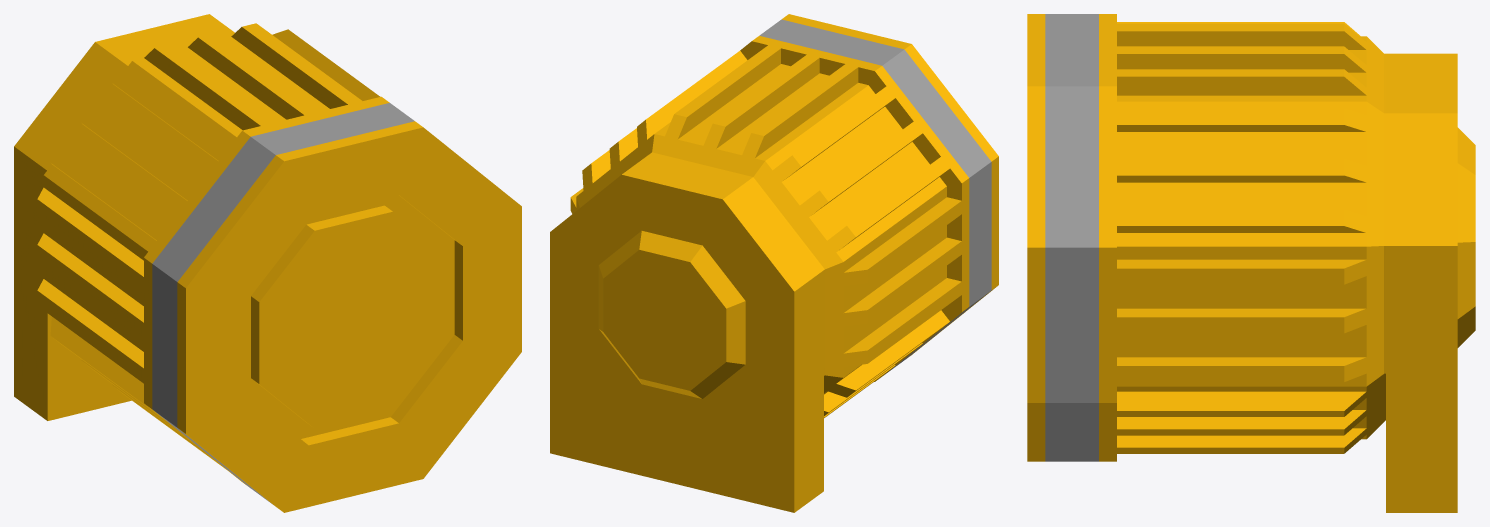
The model's file is modular_engine_starter_housing.dae.
The picture shows the model from 3 angles, left to right: view 1: azimuth 30°, elevation 25°; view 2: azimuth 150°, elevation 25°; view 3: azimuth 270°, elevation 25°; orthographic projection. The views are drawn at different scales.
Visible parts, largest first — view 1: Cube; view 2: Cube; view 3: Cube.
Boxes of the visible parts, box(x1,y1,x2,y2) form: Cube: box(14, 14, 521, 512); Cube: box(550, 14, 998, 512); Cube: box(1027, 14, 1475, 512).
Size of the model in its own units: 0.231 by 0.25 by 0.2405.
